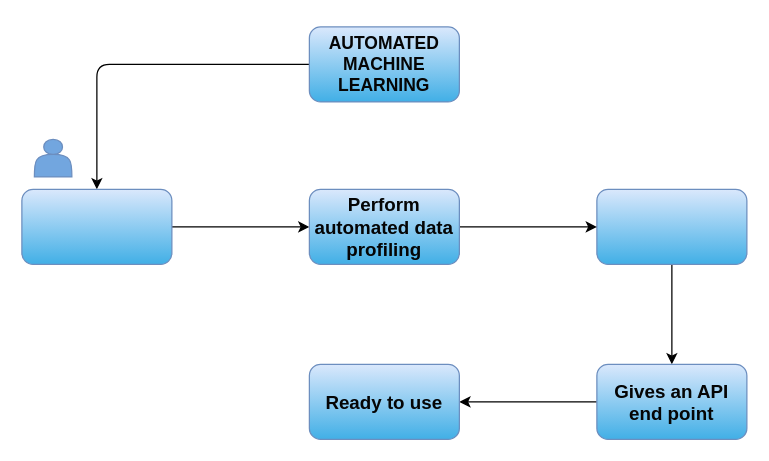
The diagram is 769 pixels wide and 461 high, and some of its shapes have lost their labels. The centre of each missing label's shape, as x and y in pixels:
Pass a custom data set: the point at 96,226
Train a machine learning model: the point at 671,226
